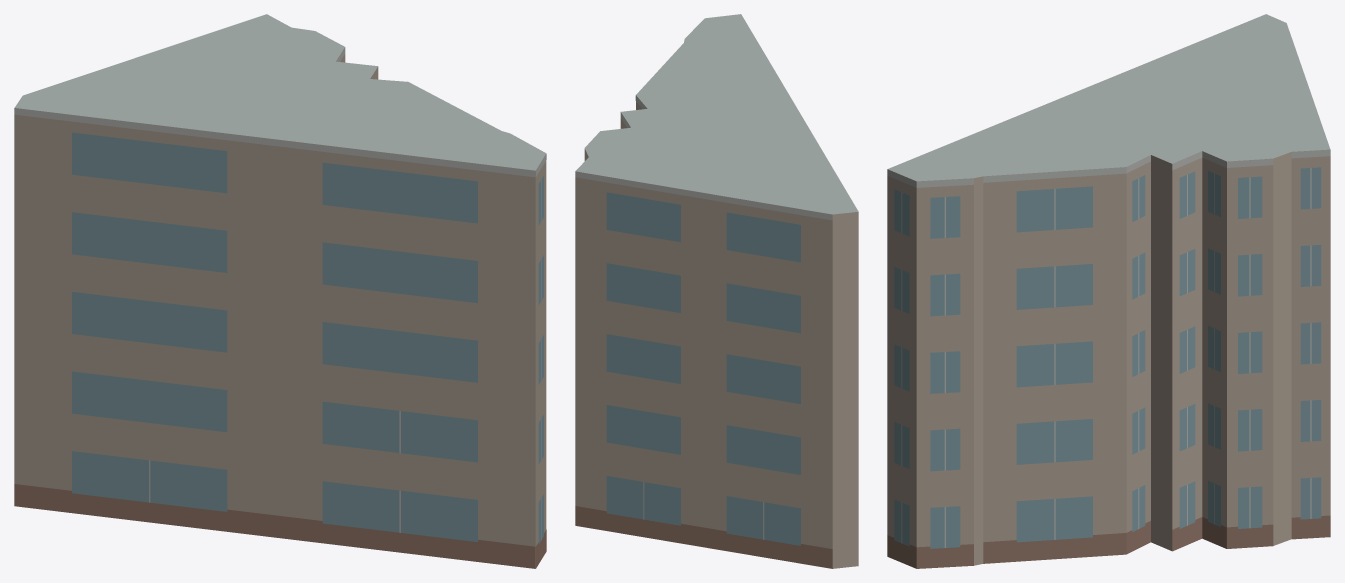
File: survey-upis-32718086.glb
3 views of the same model, side by side, from view 1: azimuth 30°, elevation 25°; view 2: azimuth 150°, elevation 25°; view 3: azimuth 270°, elevation 25° (orthographic). The views are drawn at different scales.
Parts seen in each view (by area): view 1: survey-upis-32718086.tmp; view 2: survey-upis-32718086.tmp; view 3: survey-upis-32718086.tmp.
Part boxes in pixels (box(x1,y1,x2,y2)): survey-upis-32718086.tmp: box(14, 14, 546, 568); survey-upis-32718086.tmp: box(575, 14, 858, 568); survey-upis-32718086.tmp: box(887, 14, 1330, 568).
Bounding box in the file's own units: 13.44 × 14.5 × 15.04.
